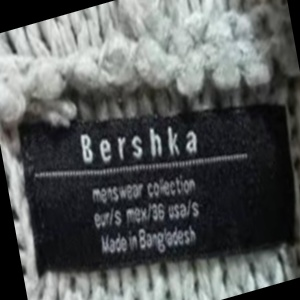bershka: (144, 31, 240, 168)
